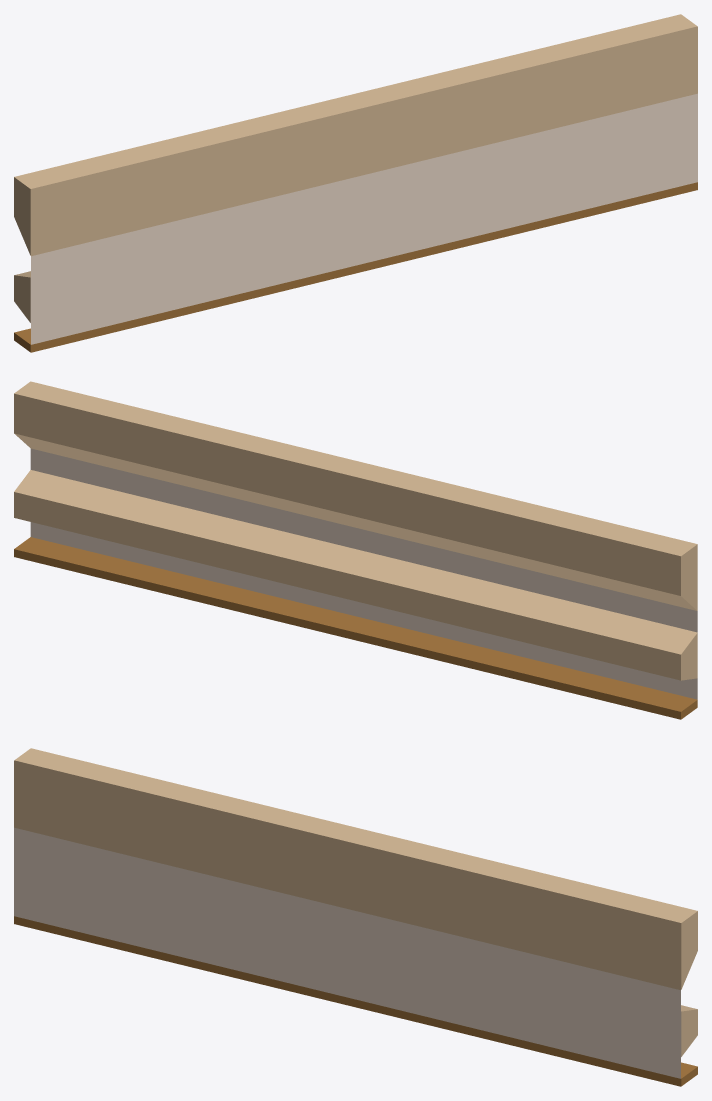
Rendered from empire-roof-backside-empire.glb.
3 views of the same model, one above another, from view 1: azimuth 30°, elevation 25°; view 2: azimuth 150°, elevation 25°; view 3: azimuth 330°, elevation 25° (orthographic).
Parts seen in each view (by area): view 1: SM_Roof_Backside_Empire; view 2: SM_Roof_Backside_Empire; view 3: SM_Roof_Backside_Empire.
Boxes of the visible parts, left/top/right/bottom form: SM_Roof_Backside_Empire: left=14, top=14, right=697, bottom=352; SM_Roof_Backside_Empire: left=14, top=381, right=697, bottom=719; SM_Roof_Backside_Empire: left=14, top=748, right=697, bottom=1086.
Size of the model in its own units: 3 by 0.7024 by 0.1319.
